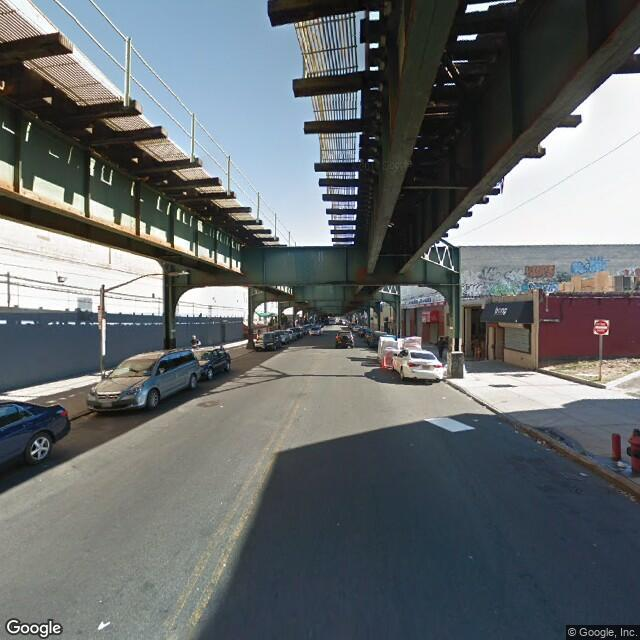litter: (423, 415, 476, 433), (97, 619, 111, 631), (614, 458, 628, 469), (578, 469, 589, 477), (535, 439, 547, 446), (219, 403, 224, 410)
